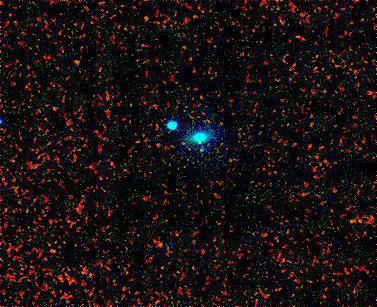star: (146, 229, 176, 259)
